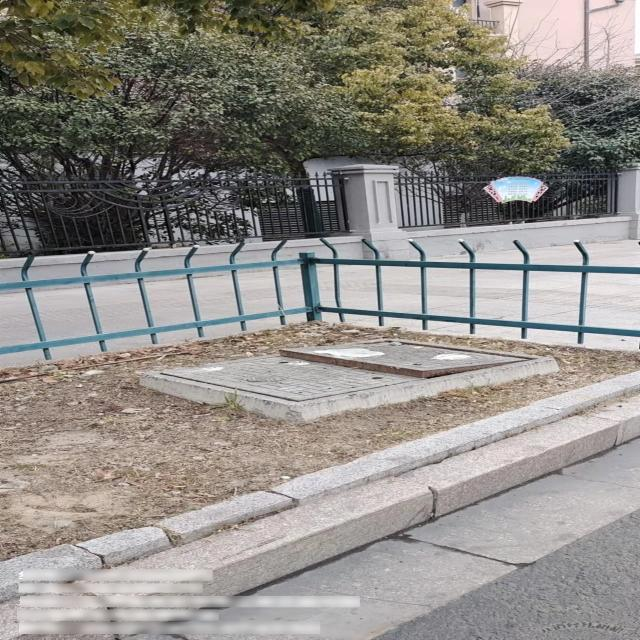Lose: (135, 338, 558, 418)
